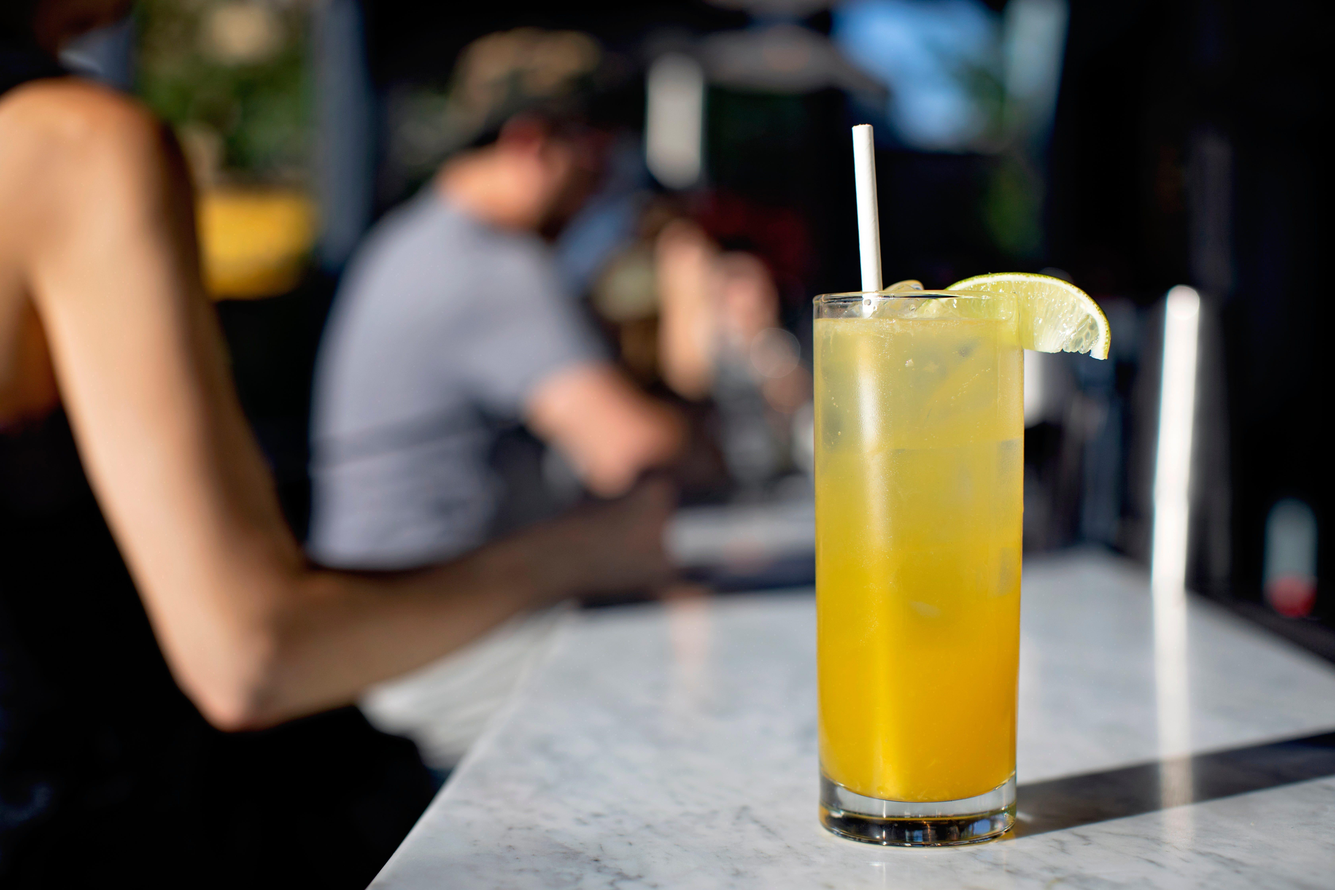glass-normal: (805, 287, 1030, 850)
